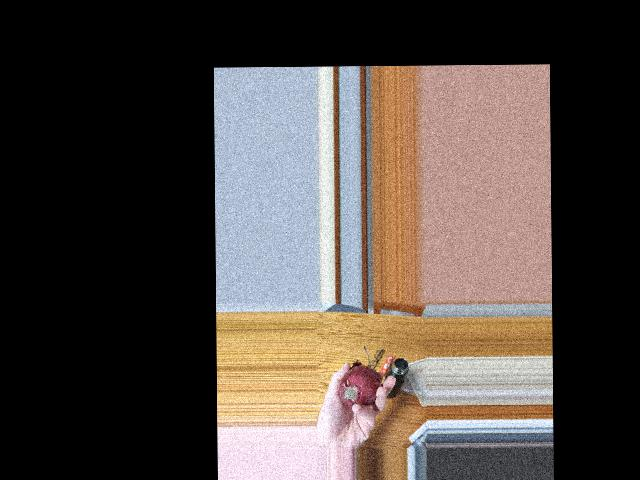onion: (336, 368, 376, 413)
